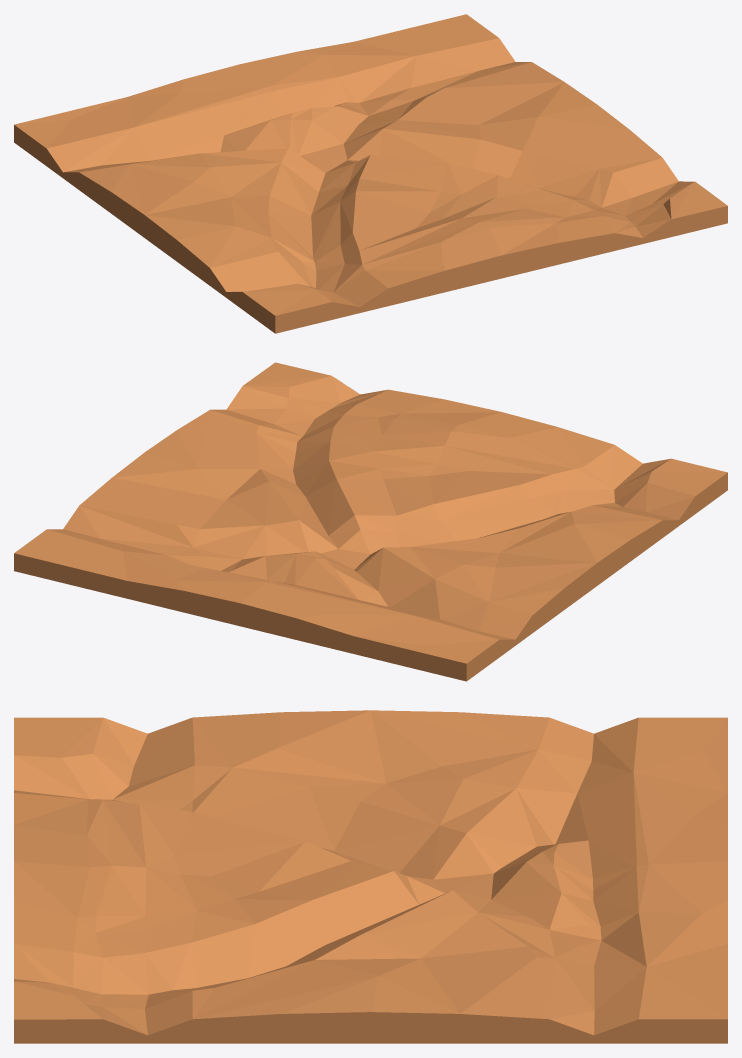
The model's file is Road_part_3.FBX.
The picture shows the model from 3 angles, top to bottom: view 1: azimuth 30°, elevation 25°; view 2: azimuth 150°, elevation 25°; view 3: azimuth 270°, elevation 25°; orthographic projection. The views are drawn at different scales.
Parts seen in each view (by area): view 1: Road_part_3; view 2: Road_part_3; view 3: Road_part_3.
Boxes of the visible parts, <box> form: Road_part_3: <box>14,14,727,333</box>; Road_part_3: <box>14,362,727,681</box>; Road_part_3: <box>14,710,727,1043</box>.
Bounding box in the file's own units: 1.5 × 0.1082 × 1.5.
1 material, 1 textured.
